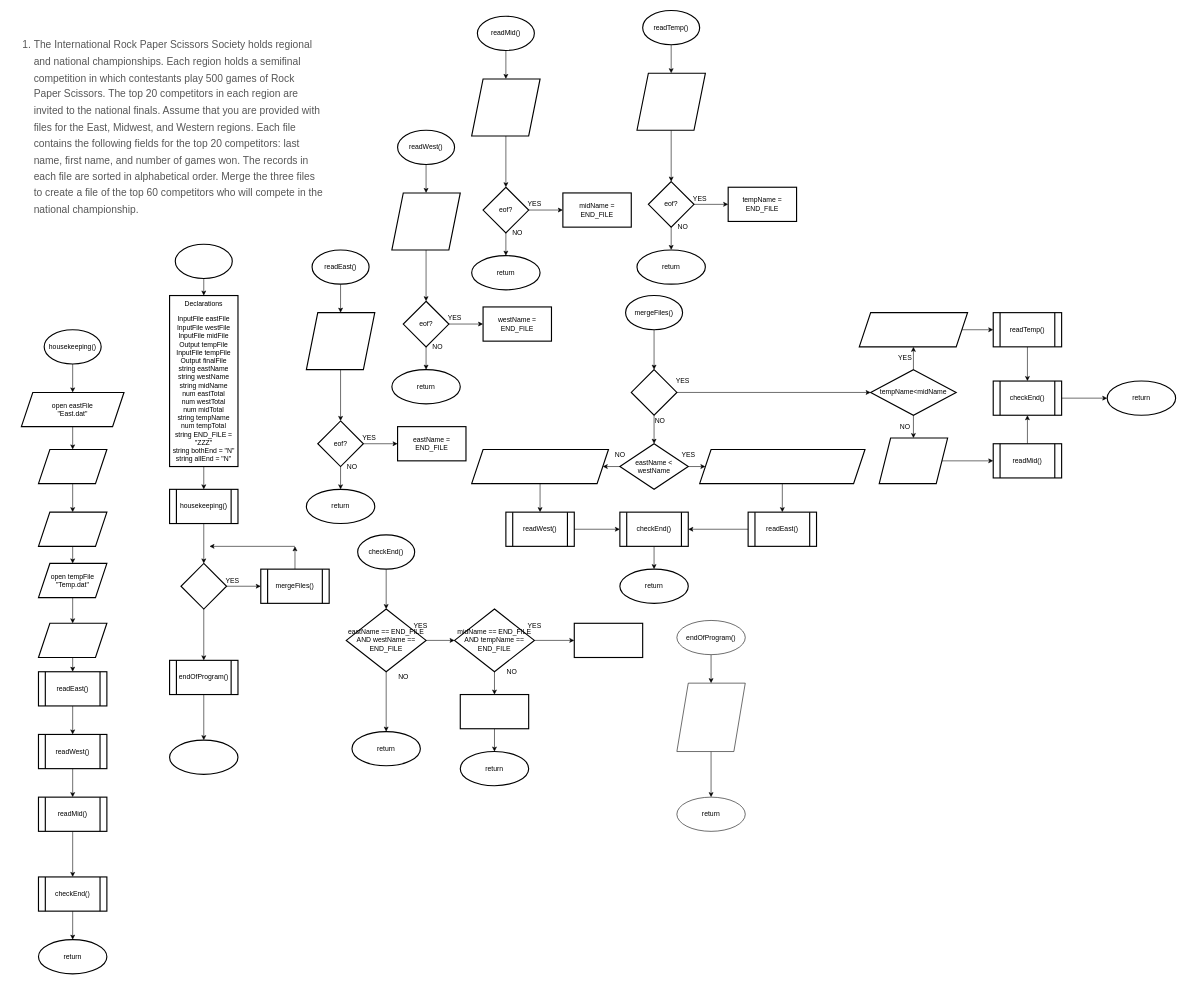
Some shapes in this 1186 by 984 pixel diagram are drawn without their labels. Each missing label, with the centre of its shape:
allEnd <>"Y": (203,586)
allEnd = "Y": (608,640)
bothEnd = "Y": (494,711)
bothEnd == "Y": (653,392)
close eastFile close westFile close midFile close tempFile close finalFile: (710,717)
input eastName, eastTotal from eastFile: (340,341)
input midName, midTotal from midFile: (505,107)
input tempName, tempTotal from tempFile: (671,101)
input westName, westTotal from westFile: (426,221)
open finalFile "Final.dat": (72,640)
open midFile "Mid.dat": (72,529)
open westFile "West.dat": (72,466)
output eastName, eastTotal to tempFile: (782,466)
output midName, midTotal to finalFile: (913,460)
output tempName, tempTotal to finalFile: (913,329)
output westName, westTotal to tempFile: (540,466)
start: (203,261)
stop: (203,757)
